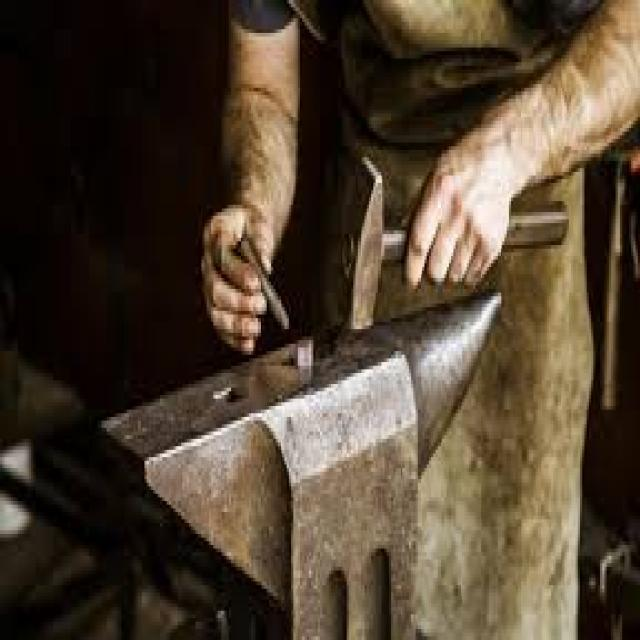hammer: (336, 150, 574, 355)
